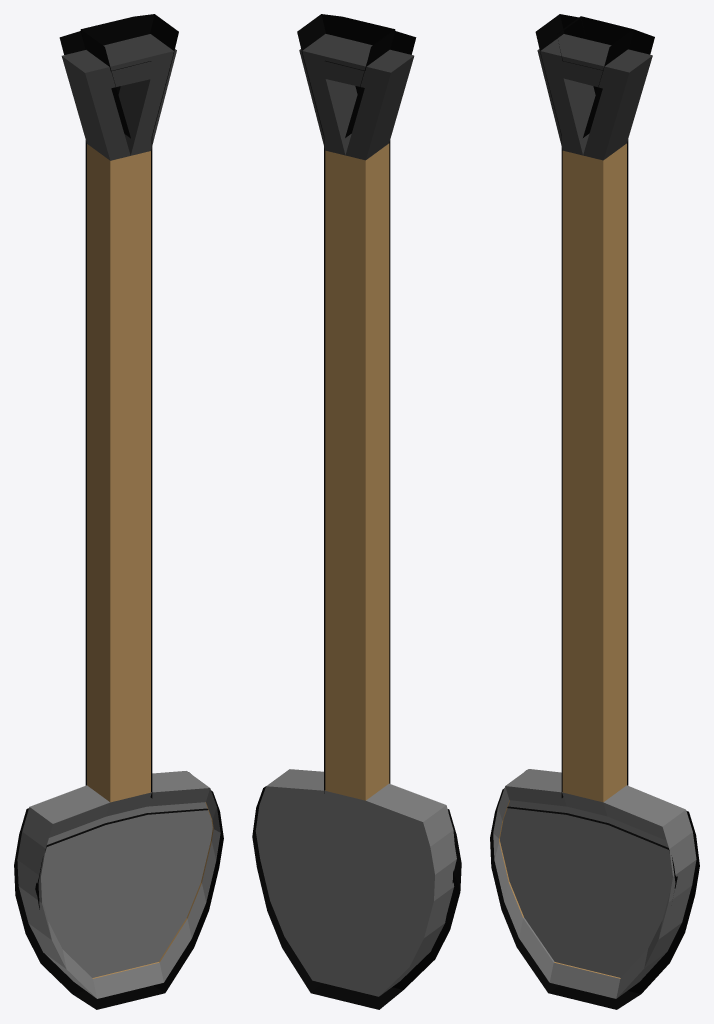
Rendered from Spade.fbx.
3 renders of one model, left to right at view 1: azimuth 30°, elevation 25°; view 2: azimuth 150°, elevation 25°; view 3: azimuth 330°, elevation 25°, orthographic.
Visible parts, largest first — view 1: Cube; view 2: Cube; view 3: Cube.
Part boxes in pixels (left/top/right/bottom): Cube: left=14, top=14, right=223, bottom=1009; Cube: left=252, top=14, right=461, bottom=1009; Cube: left=490, top=14, right=699, bottom=1009.
Bounding box in the file's own units: 64.32 × 319 × 14.68.
